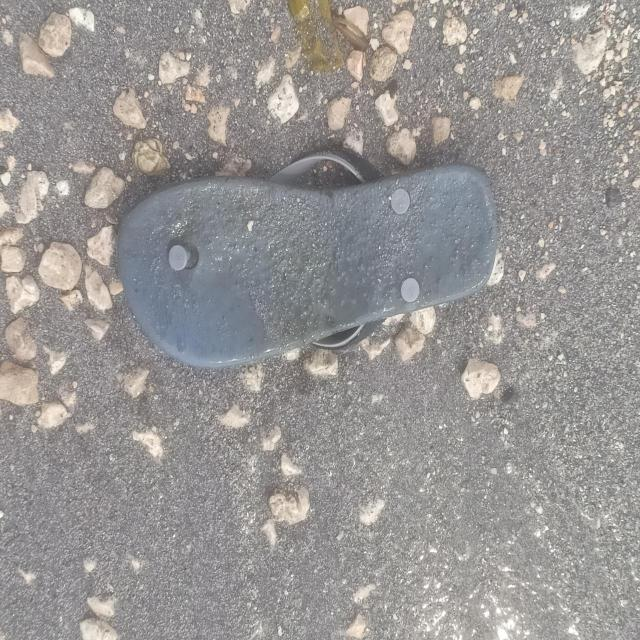rubber_waste: (117, 148, 501, 367)
